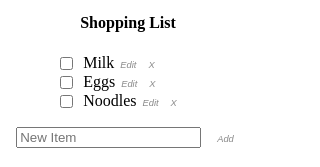
Test: changes li item
Click the button "Edit" next to "Milk".
click(128, 64)  # box [114, 58, 142, 70]
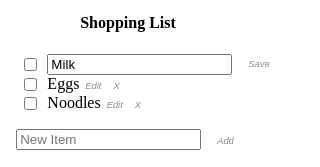
Type "cookies" into the 1st field.
click(140, 64); type("cookies")  # box [47, 54, 232, 74]
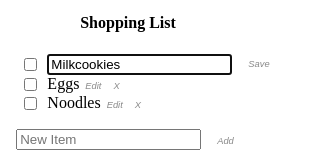
Click the button "Save".
click(259, 64)  # box [242, 54, 276, 74]
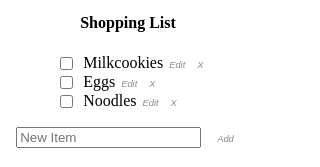
Now the text "Milkcookies" is shown, box [83, 54, 163, 70]
